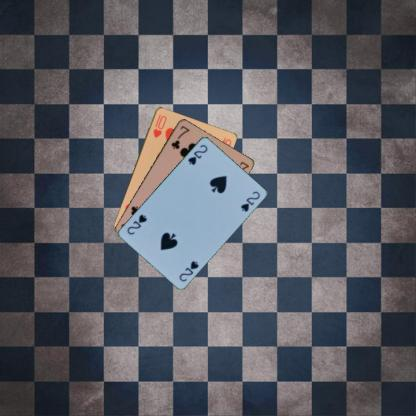10h: (150, 112, 168, 139)
2s: (177, 258, 200, 282), (186, 142, 208, 167)
7c: (168, 123, 191, 150)
